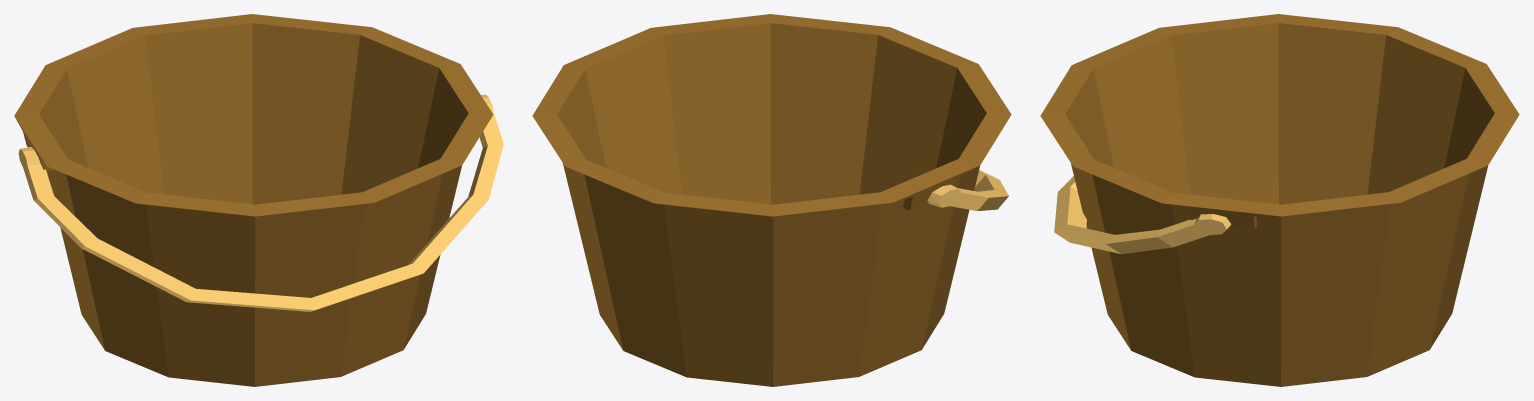
File: Basket.fbx
3 renders of one model, left to right at view 1: azimuth 30°, elevation 25°; view 2: azimuth 150°, elevation 25°; view 3: azimuth 270°, elevation 25°, orthographic.
Visible parts, largest first — view 1: Node; view 2: Node; view 3: Node.
Boxes of the visible parts, x1,y1,x2,y2 form: Node: (14,14,503,386); Node: (532,14,1011,386); Node: (1040,14,1519,386).
Size of the model in its own units: 747 by 347 by 731.
